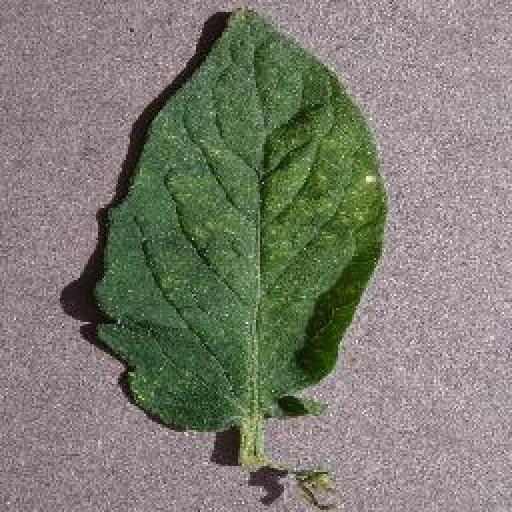disease_tomato: (90, 6, 386, 434)
